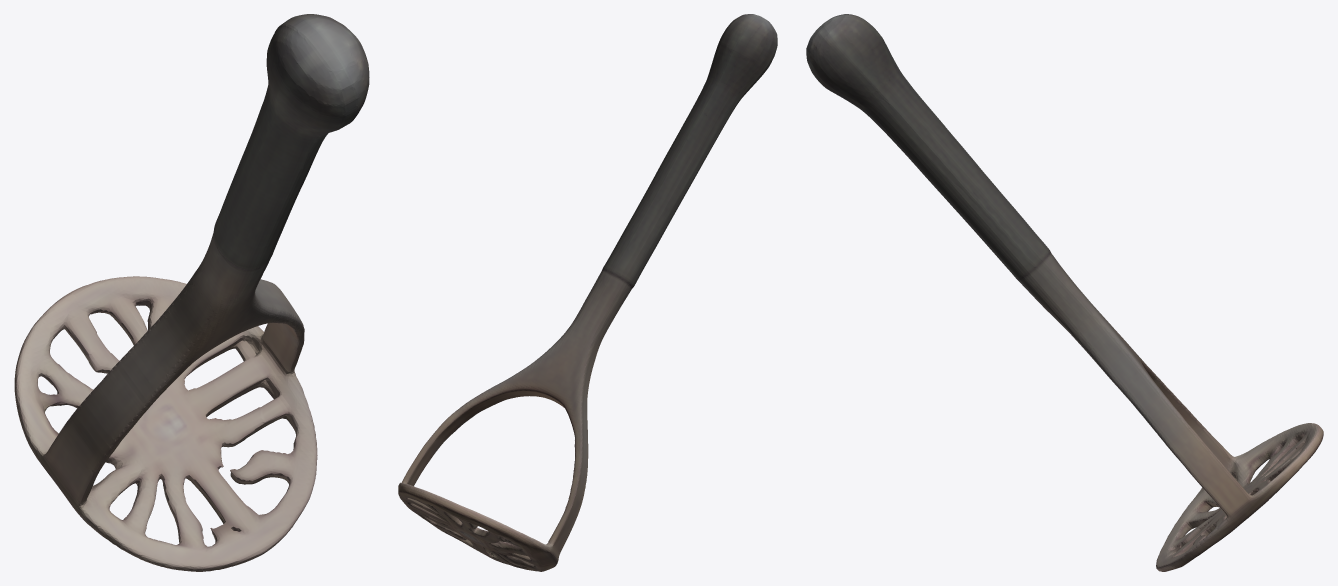
Rendered from frame_0096_source_000096_object.glb.
3 renders of one model, left to right at view 1: azimuth 30°, elevation 25°; view 2: azimuth 150°, elevation 25°; view 3: azimuth 270°, elevation 25°, orthographic. The views are drawn at different scales.
Parts seen in each view (by area): view 1: world; view 2: world; view 3: world.
Part boxes in pixels (x1=…): world: x1=14, y1=14, x2=369, y2=571; world: x1=398, y1=14, x2=777, y2=571; world: x1=806, y1=14, x2=1323, y2=571.
Size of the model in its own units: 0.0921 by 0.2153 by 0.203.
